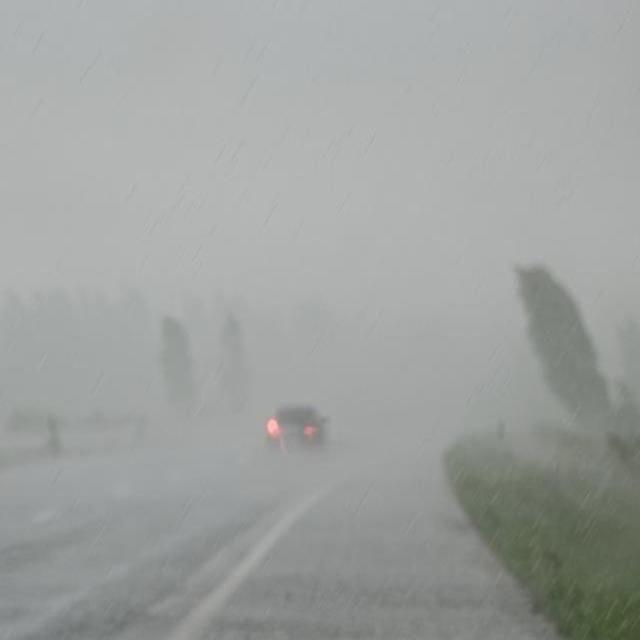car: (262, 405, 330, 454)
